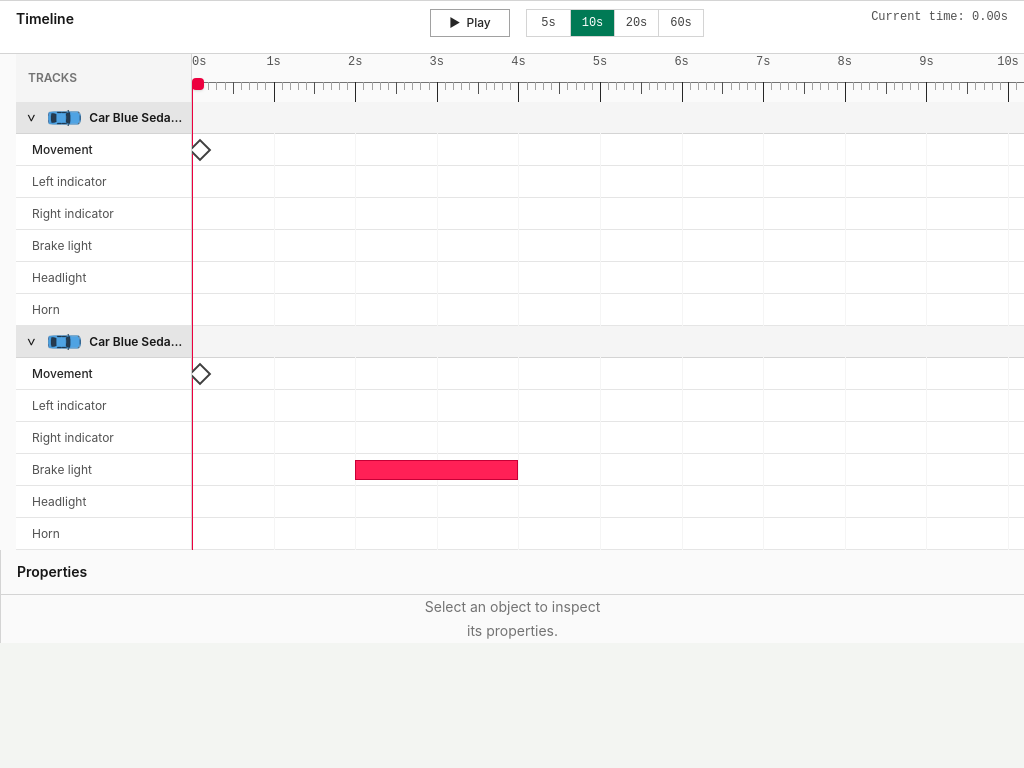
F7.2 cross-panel selection synchronization › selects a State interval source keyframe across Timeline and Properties
The width and height of the screenshot is (1024, 768).
Click the button named "Select Brake light interval starting at 2.0 seconds". click: x=437, y=470
box: [356,461,517,479]
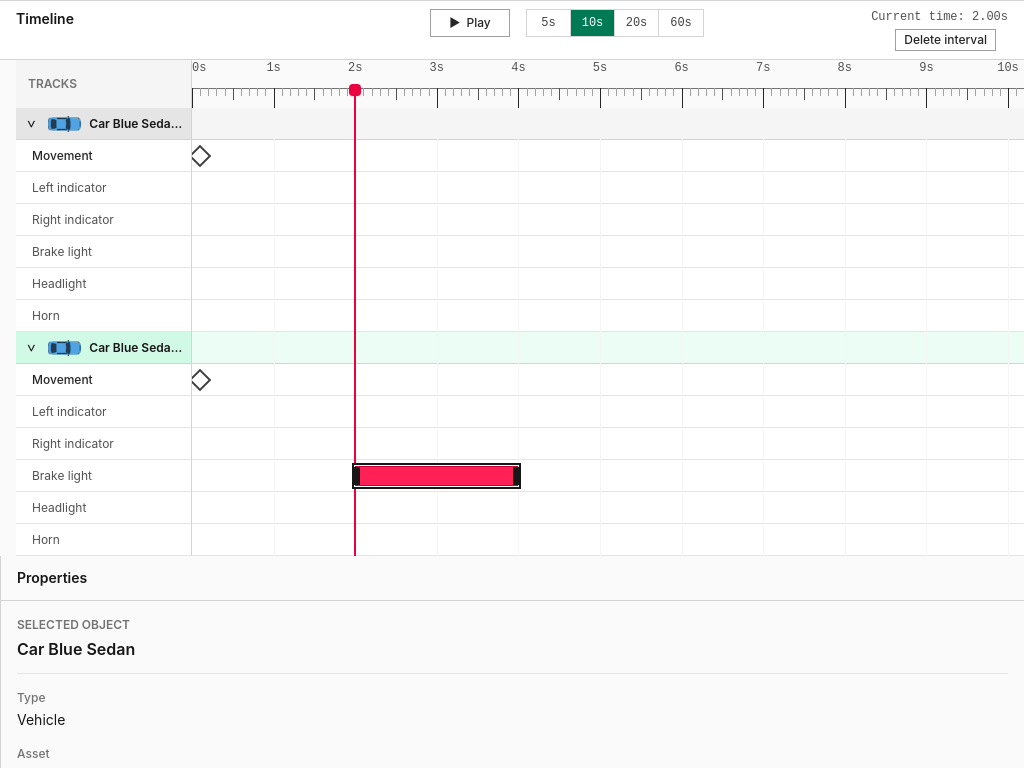
Expected: the text "Brake light" is shown, [16,236,191,268]
Now the text "2.00s" is shown, box [871,10,1008,24]
